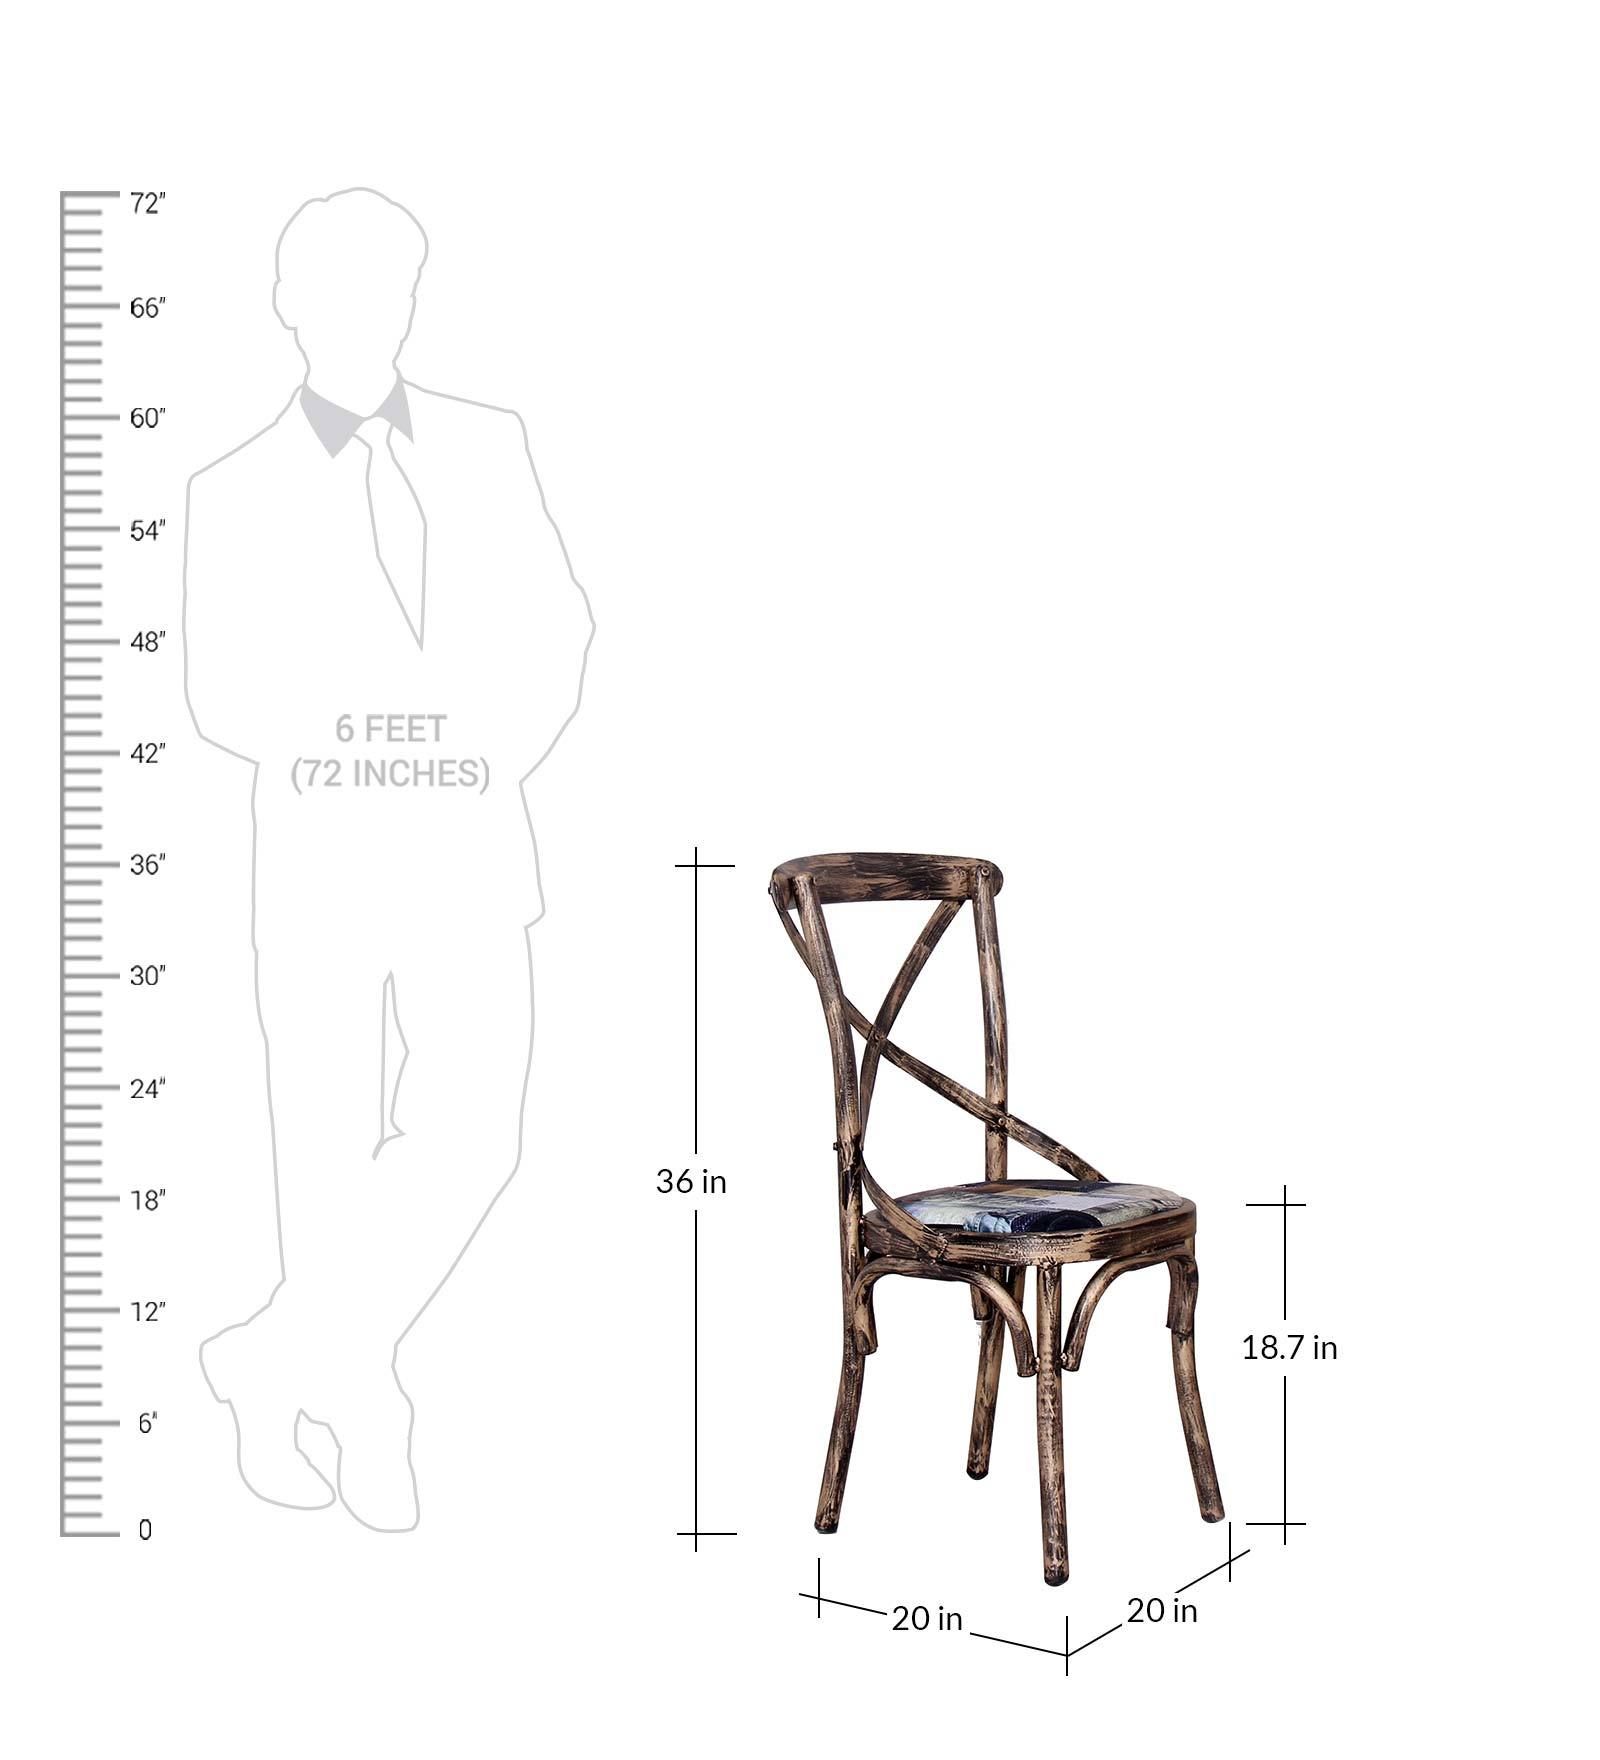Stanrock Metal Chair (Set of 2) in Antique Bronze by Bohemiana: (743, 820, 1232, 1594)
